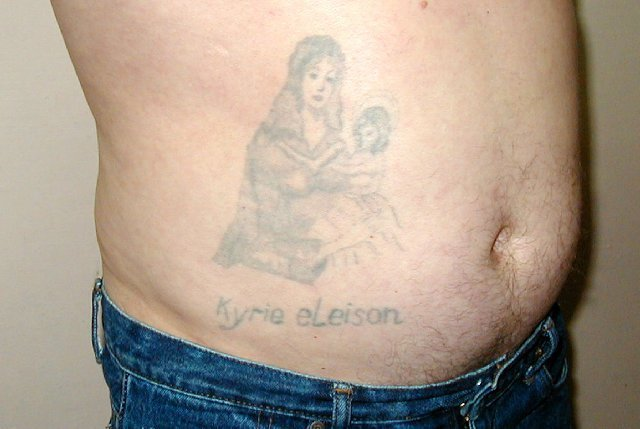tatu2_bogorodica: (207, 37, 415, 284)
tatu3_bukva: (206, 294, 423, 340)
